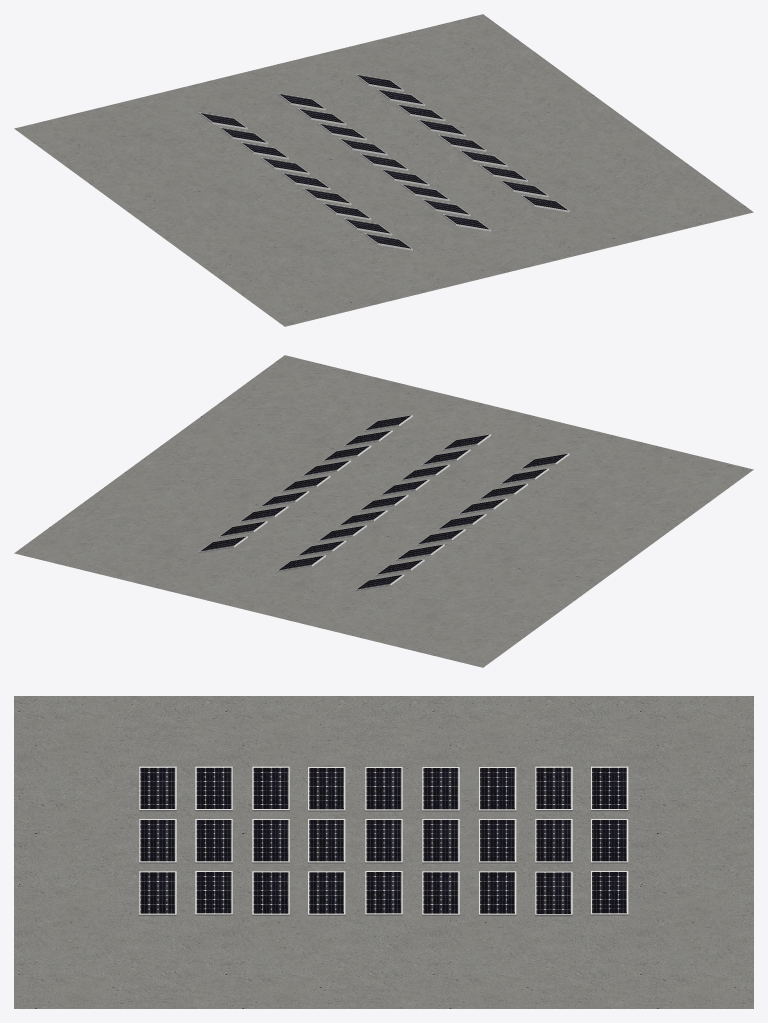
File: panel_solar1.dae
3 renders of one model, top to bottom at view 1: azimuth 30°, elevation 25°; view 2: azimuth 150°, elevation 25°; view 3: azimuth 270°, elevation 25°, orthographic. The views are drawn at different scales.
Parts seen in each view (by area): view 1: Plane; view 2: Plane; view 3: Plane, Panel.025, Panel.018, Panel.017, Panel.016, Panel.013, Panel.014, Panel.026, Panel.024, Panel.023, Panel.022, Panel.021 (+16 smaller).
Part boxes in pixels (x1,y1,x2,y2): Plane: (14,14,753,326); Plane: (14,355,753,667); Plane: (14,696,753,1008); Panel.025: (535,871,572,916); Panel.018: (139,766,176,811); Panel.017: (195,766,232,811); Panel.016: (252,766,289,811); Panel.013: (535,766,572,811); Panel.014: (591,766,628,811); Panel.026: (591,871,628,915); Panel.024: (479,871,516,915); Panel.023: (422,871,459,915); Panel.022: (139,871,176,915); Panel.021: (195,871,232,915).
Size of the model in its own units: 78.89 by 78.89 by 2.58.
3 materials, 2 textured.
